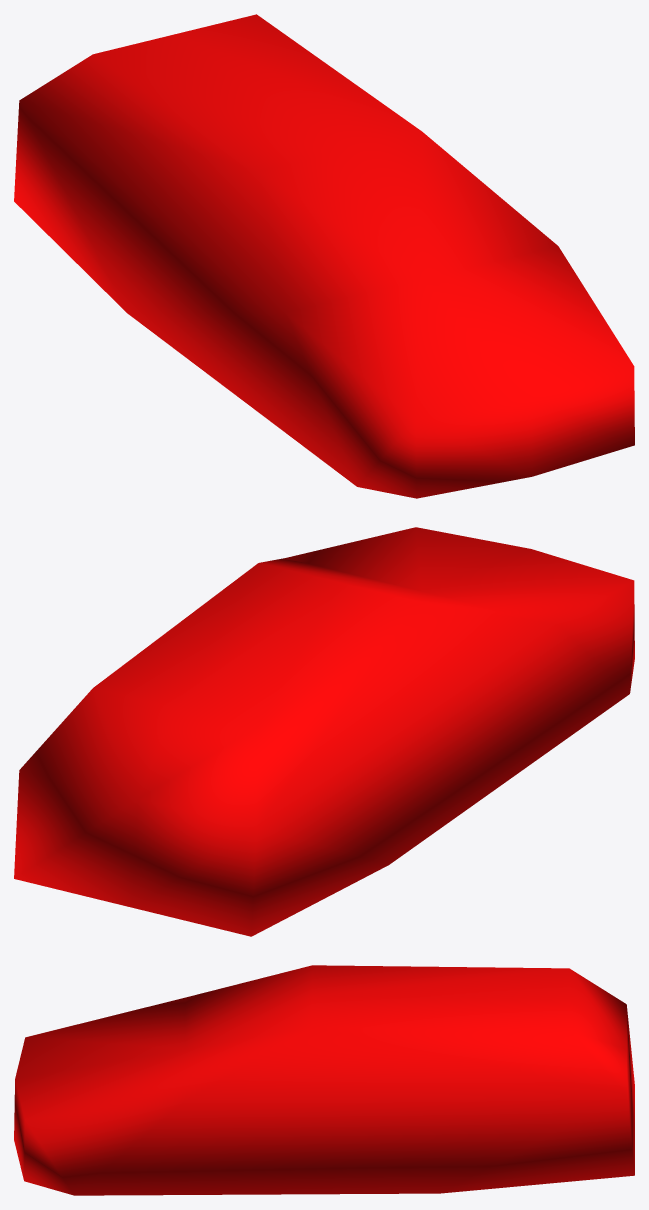
The model's file is car_0018_collider.fbx.
3 renders of one model, top to bottom at view 1: azimuth 30°, elevation 25°; view 2: azimuth 150°, elevation 25°; view 3: azimuth 270°, elevation 25°, orthographic. The views are drawn at different scales.
Visible parts, largest first — view 1: Mesh; view 2: Mesh; view 3: Mesh.
Boxes of the visible parts, x1,y1,x2,y2 form: Mesh: [14, 14, 634, 498]; Mesh: [14, 527, 634, 936]; Mesh: [14, 965, 634, 1195].
Bounding box in the file's own units: 192 × 128 × 486.
